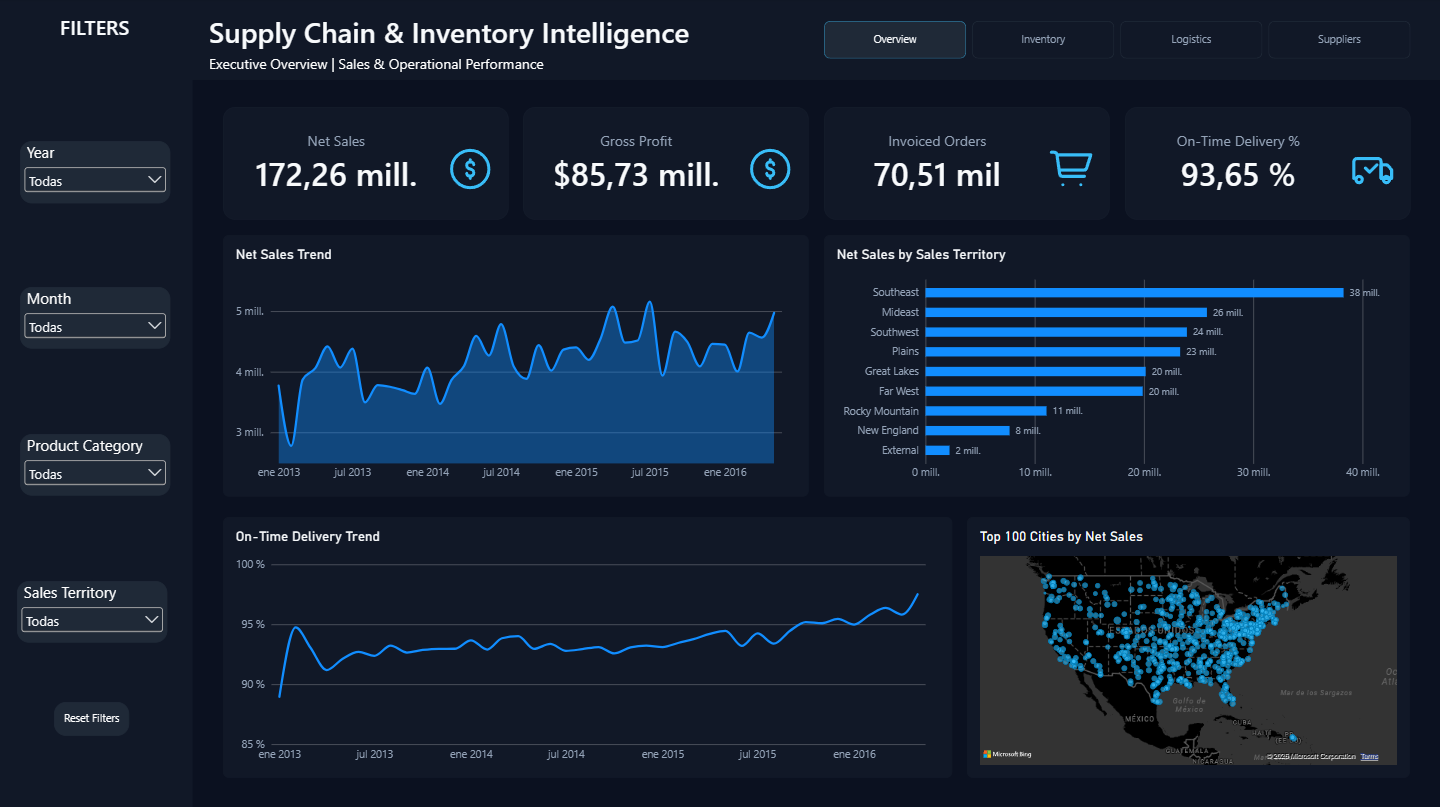

The dashboard page shown, as its layout file describes it:
{"tool":"powerbi","page":{"name":"Overview","canvas":[1920,1080],"ordinal":0},"visuals":[{"type":"shape","box":[250.9,0,1669.1,109.1],"z":0},{"type":"textbox","box":[281.6,19.5,1079.8,55.4],"z":1000},{"type":"textbox","box":[281.6,74.9,1079.8,34.4],"z":2000},{"type":"shape","box":[0,1.5,260,1079],"z":3000},{"type":"textbox","box":[0,1.4,260,107.1],"z":4000},{"type":"slicer","fields":{"Values":["dim_date.year"]},"box":[30,190,200,82.9],"z":5000},{"type":"slicer","fields":{"Values":["dim_date.month_name"]},"box":[30,385,200,82],"z":6000},{"type":"slicer","fields":{"Values":["dim_stock_group.stock_group_name"]},"box":[30,580,200,82],"z":7000},{"type":"slicer","fields":{"Values":["dim_customer.sales_territory"]},"box":[27.1,775,200,82],"z":8000},{"type":"cardVisual","fields":{"Data":["_Medidas.Net Sales"]},"box":[300,145,380,150],"z":9000},{"type":"cardVisual","fields":{"Data":["_Medidas.Total Profit"]},"box":[700,145,380,150],"z":10000},{"type":"cardVisual","fields":{"Data":["_Medidas.Total Orders"]},"box":[1100,145,380,150],"z":11000},{"type":"cardVisual","fields":{"Data":["_Medidas.On-Time Delivery %"]},"box":[1500,145,380,150],"z":12000},{"type":"areaChart","title":"Net Sales Trend","fields":{"Y":["_Medidas.Net Sales"],"Category":["dim_date.YearMonthDate"]},"box":[300.6,314.8,779,347.8],"z":13000},{"type":"barChart","title":"Net Sales by Sales Territory","fields":{"Category":["dim_customer.sales_territory"],"Y":["_Medidas.Net Sales"]},"box":[1100.1,314.8,779,347.8],"z":14000},{"type":"actionButton","title":"Reset Filters","box":[76.4,936.8,100.4,45],"z":15000},{"type":"map","title":"Top 100 Cities by Net Sales","fields":{"Category":["dim_customer.Map Location"],"Size":["_Medidas.Net Sales"]},"box":[1289.6,689.7,589.2,347.2],"z":16000},{"type":"lineChart","title":"On-Time Delivery Trend","fields":{"Category":["dim_date.YearMonthDate"],"Y":["_Medidas.On-Time Delivery %"]},"box":[300,689.7,969.9,347.2],"z":17000},{"type":"pageNavigator","box":[1100,30,780,50],"z":18000}]}

Visuals, with their boxes in screenshot pixels (x1, y1, x2, y2), scaled from the page's 1920x1080 canvas onto the 1440x807 screenshot:
shape: x1=188 y1=0 x2=1439 y2=82
textbox: x1=211 y1=15 x2=1021 y2=56
textbox: x1=211 y1=56 x2=1021 y2=82
shape: x1=0 y1=1 x2=195 y2=806
textbox: x1=0 y1=1 x2=195 y2=81
slicer - dim_date.year: x1=22 y1=142 x2=172 y2=204
slicer - dim_date.month_name: x1=22 y1=288 x2=172 y2=349
slicer - dim_stock_group.stock_group_name: x1=22 y1=433 x2=172 y2=495
slicer - dim_customer.sales_territory: x1=20 y1=579 x2=170 y2=640
cardVisual - _Medidas.Net Sales: x1=225 y1=108 x2=510 y2=220
cardVisual - _Medidas.Total Profit: x1=525 y1=108 x2=810 y2=220
cardVisual - _Medidas.Total Orders: x1=825 y1=108 x2=1110 y2=220
cardVisual - _Medidas.On-Time Delivery %: x1=1125 y1=108 x2=1410 y2=220
"Net Sales Trend" areaChart: x1=225 y1=235 x2=810 y2=495
"Net Sales by Sales Territory" barChart: x1=825 y1=235 x2=1409 y2=495
"Reset Filters" actionButton: x1=57 y1=700 x2=133 y2=734
"Top 100 Cities by Net Sales" map: x1=967 y1=515 x2=1409 y2=775
"On-Time Delivery Trend" lineChart: x1=225 y1=515 x2=952 y2=775
pageNavigator: x1=825 y1=22 x2=1410 y2=60
